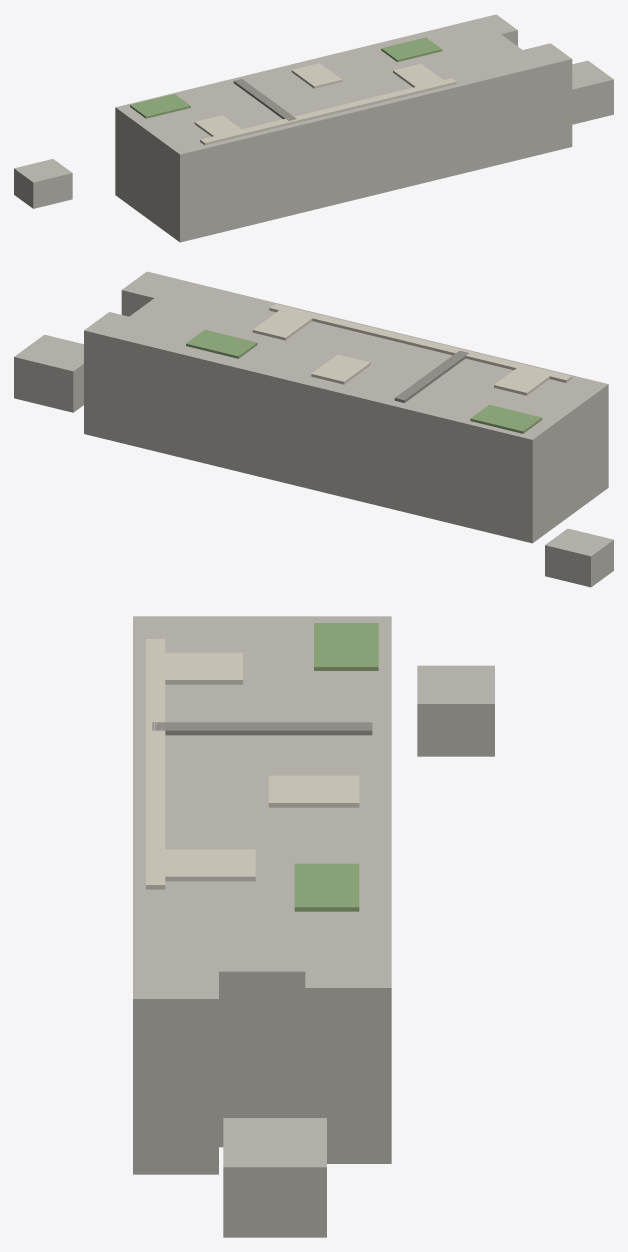
The model's file is 25-Ruinas-Templos_dintel_caido.glb.
The picture shows the model from 3 angles, top to bottom: view 1: azimuth 30°, elevation 25°; view 2: azimuth 150°, elevation 25°; view 3: azimuth 270°, elevation 25°; orthographic projection. The views are drawn at different scales.
Parts seen in each view (by area): view 1: SM_Dintel_Cuerpo_NOFUNDIR, SM_Dintel_M_Dintel_Tallado, SM_Dintel_Escombro_NOFUNDIR, SM_Dintel_Fragmento_NOFUNDIR, SM_Dintel_M_Dintel_Musgo, SM_Dintel_Grieta_NOFUNDIR; view 2: SM_Dintel_Cuerpo_NOFUNDIR, SM_Dintel_M_Dintel_Tallado, SM_Dintel_Fragmento_NOFUNDIR, SM_Dintel_Escombro_NOFUNDIR, SM_Dintel_M_Dintel_Musgo, SM_Dintel_Grieta_NOFUNDIR; view 3: SM_Dintel_Cuerpo_NOFUNDIR, SM_Dintel_M_Dintel_Tallado, SM_Dintel_Fragmento_NOFUNDIR, SM_Dintel_Escombro_NOFUNDIR, SM_Dintel_M_Dintel_Musgo, SM_Dintel_Grieta_NOFUNDIR.
Boxes of the visible parts, x1,y1,x2,y2 form: SM_Dintel_Cuerpo_NOFUNDIR: (115, 14, 572, 242); SM_Dintel_M_Dintel_Tallado: (194, 63, 456, 145); SM_Dintel_Escombro_NOFUNDIR: (14, 159, 72, 208); SM_Dintel_Fragmento_NOFUNDIR: (572, 60, 613, 124); SM_Dintel_M_Dintel_Musgo: (130, 37, 442, 118); SM_Dintel_Grieta_NOFUNDIR: (233, 79, 296, 120); SM_Dintel_Cuerpo_NOFUNDIR: (84, 271, 608, 543); SM_Dintel_M_Dintel_Tallado: (252, 303, 571, 395); SM_Dintel_Fragmento_NOFUNDIR: (14, 334, 83, 412); SM_Dintel_Escombro_NOFUNDIR: (545, 528, 613, 587); SM_Dintel_M_Dintel_Musgo: (186, 329, 542, 433); SM_Dintel_Grieta_NOFUNDIR: (394, 350, 468, 402); SM_Dintel_Cuerpo_NOFUNDIR: (133, 616, 391, 1174); SM_Dintel_M_Dintel_Tallado: (146, 639, 359, 889); SM_Dintel_Fragmento_NOFUNDIR: (223, 1118, 326, 1237); SM_Dintel_Escombro_NOFUNDIR: (417, 665, 494, 756); SM_Dintel_M_Dintel_Musgo: (294, 623, 378, 911); SM_Dintel_Grieta_NOFUNDIR: (152, 722, 372, 735).
Size of the model in its own units: 1.9 by 0.308 by 0.56.
